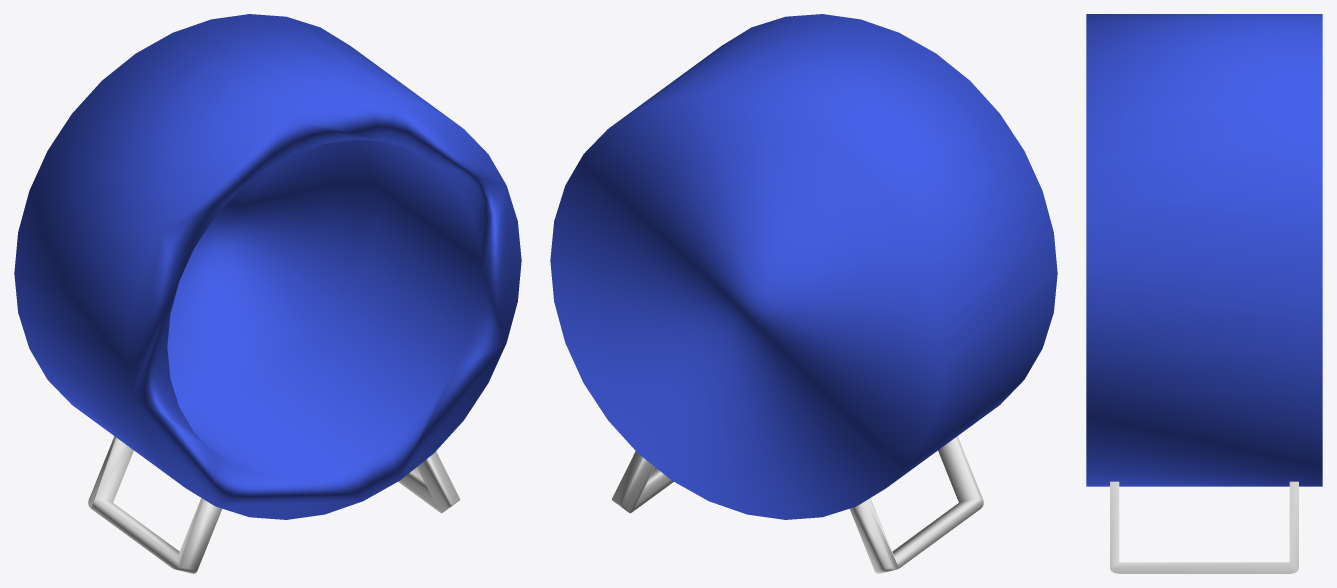
The model's file is clockParts.gltf.
3 views of the same model, side by side, from view 1: azimuth 30°, elevation 25°; view 2: azimuth 150°, elevation 25°; view 3: azimuth 270°, elevation 25° (orthographic). The views are drawn at different scales.
Parts seen in each view (by area): view 1: 立方体.002; view 2: 立方体.002; view 3: 立方体.002.
Part boxes in pixels (box(x1,y1,x2,y2)): 立方体.002: box(14, 14, 521, 573); 立方体.002: box(550, 14, 1057, 573); 立方体.002: box(1086, 14, 1322, 573).
Bounding box in the file's own units: 1.8 × 1.98 × 0.9.
